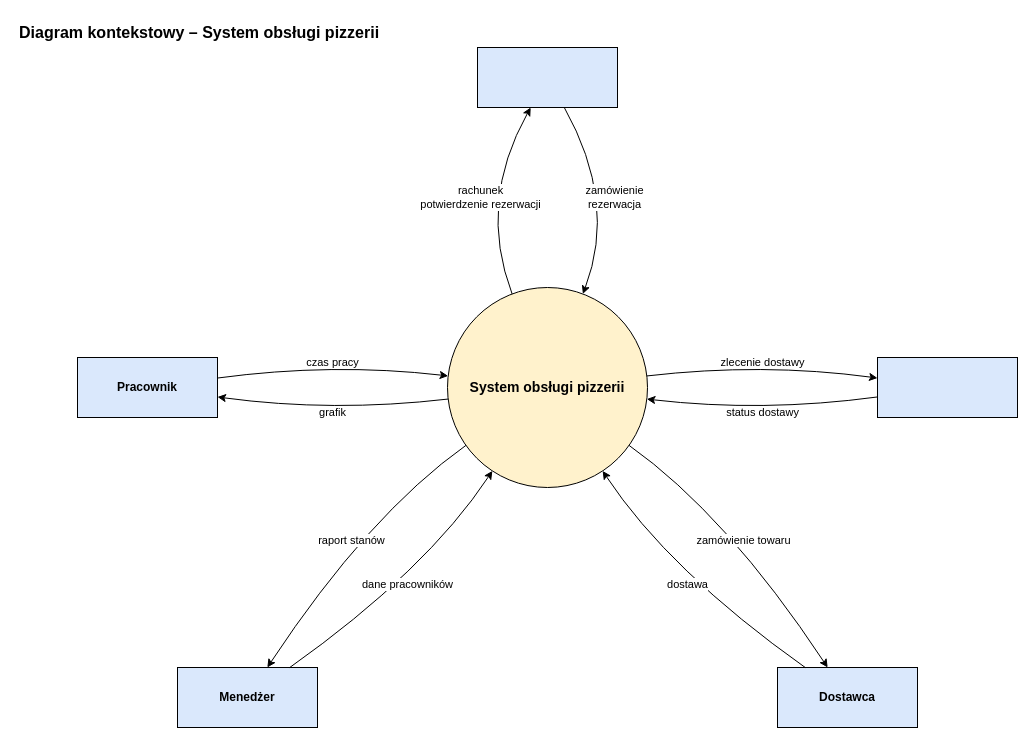
Some shapes in this 1035 by 745 pixel diagram are drawn without their labels. Each missing label, with the centre of its shape:
Klient: (547,77)
Kurier: (947,387)
